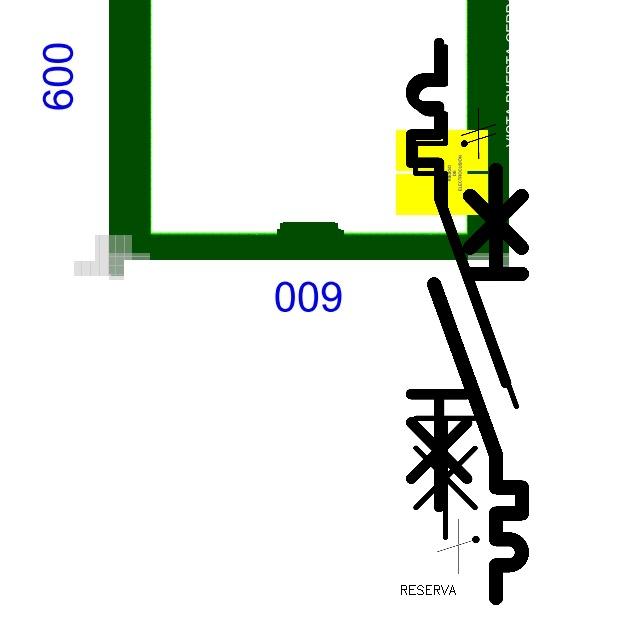interruptor_termomagnetico: (403, 34, 529, 549), (399, 31, 518, 519), (423, 158, 533, 608)
